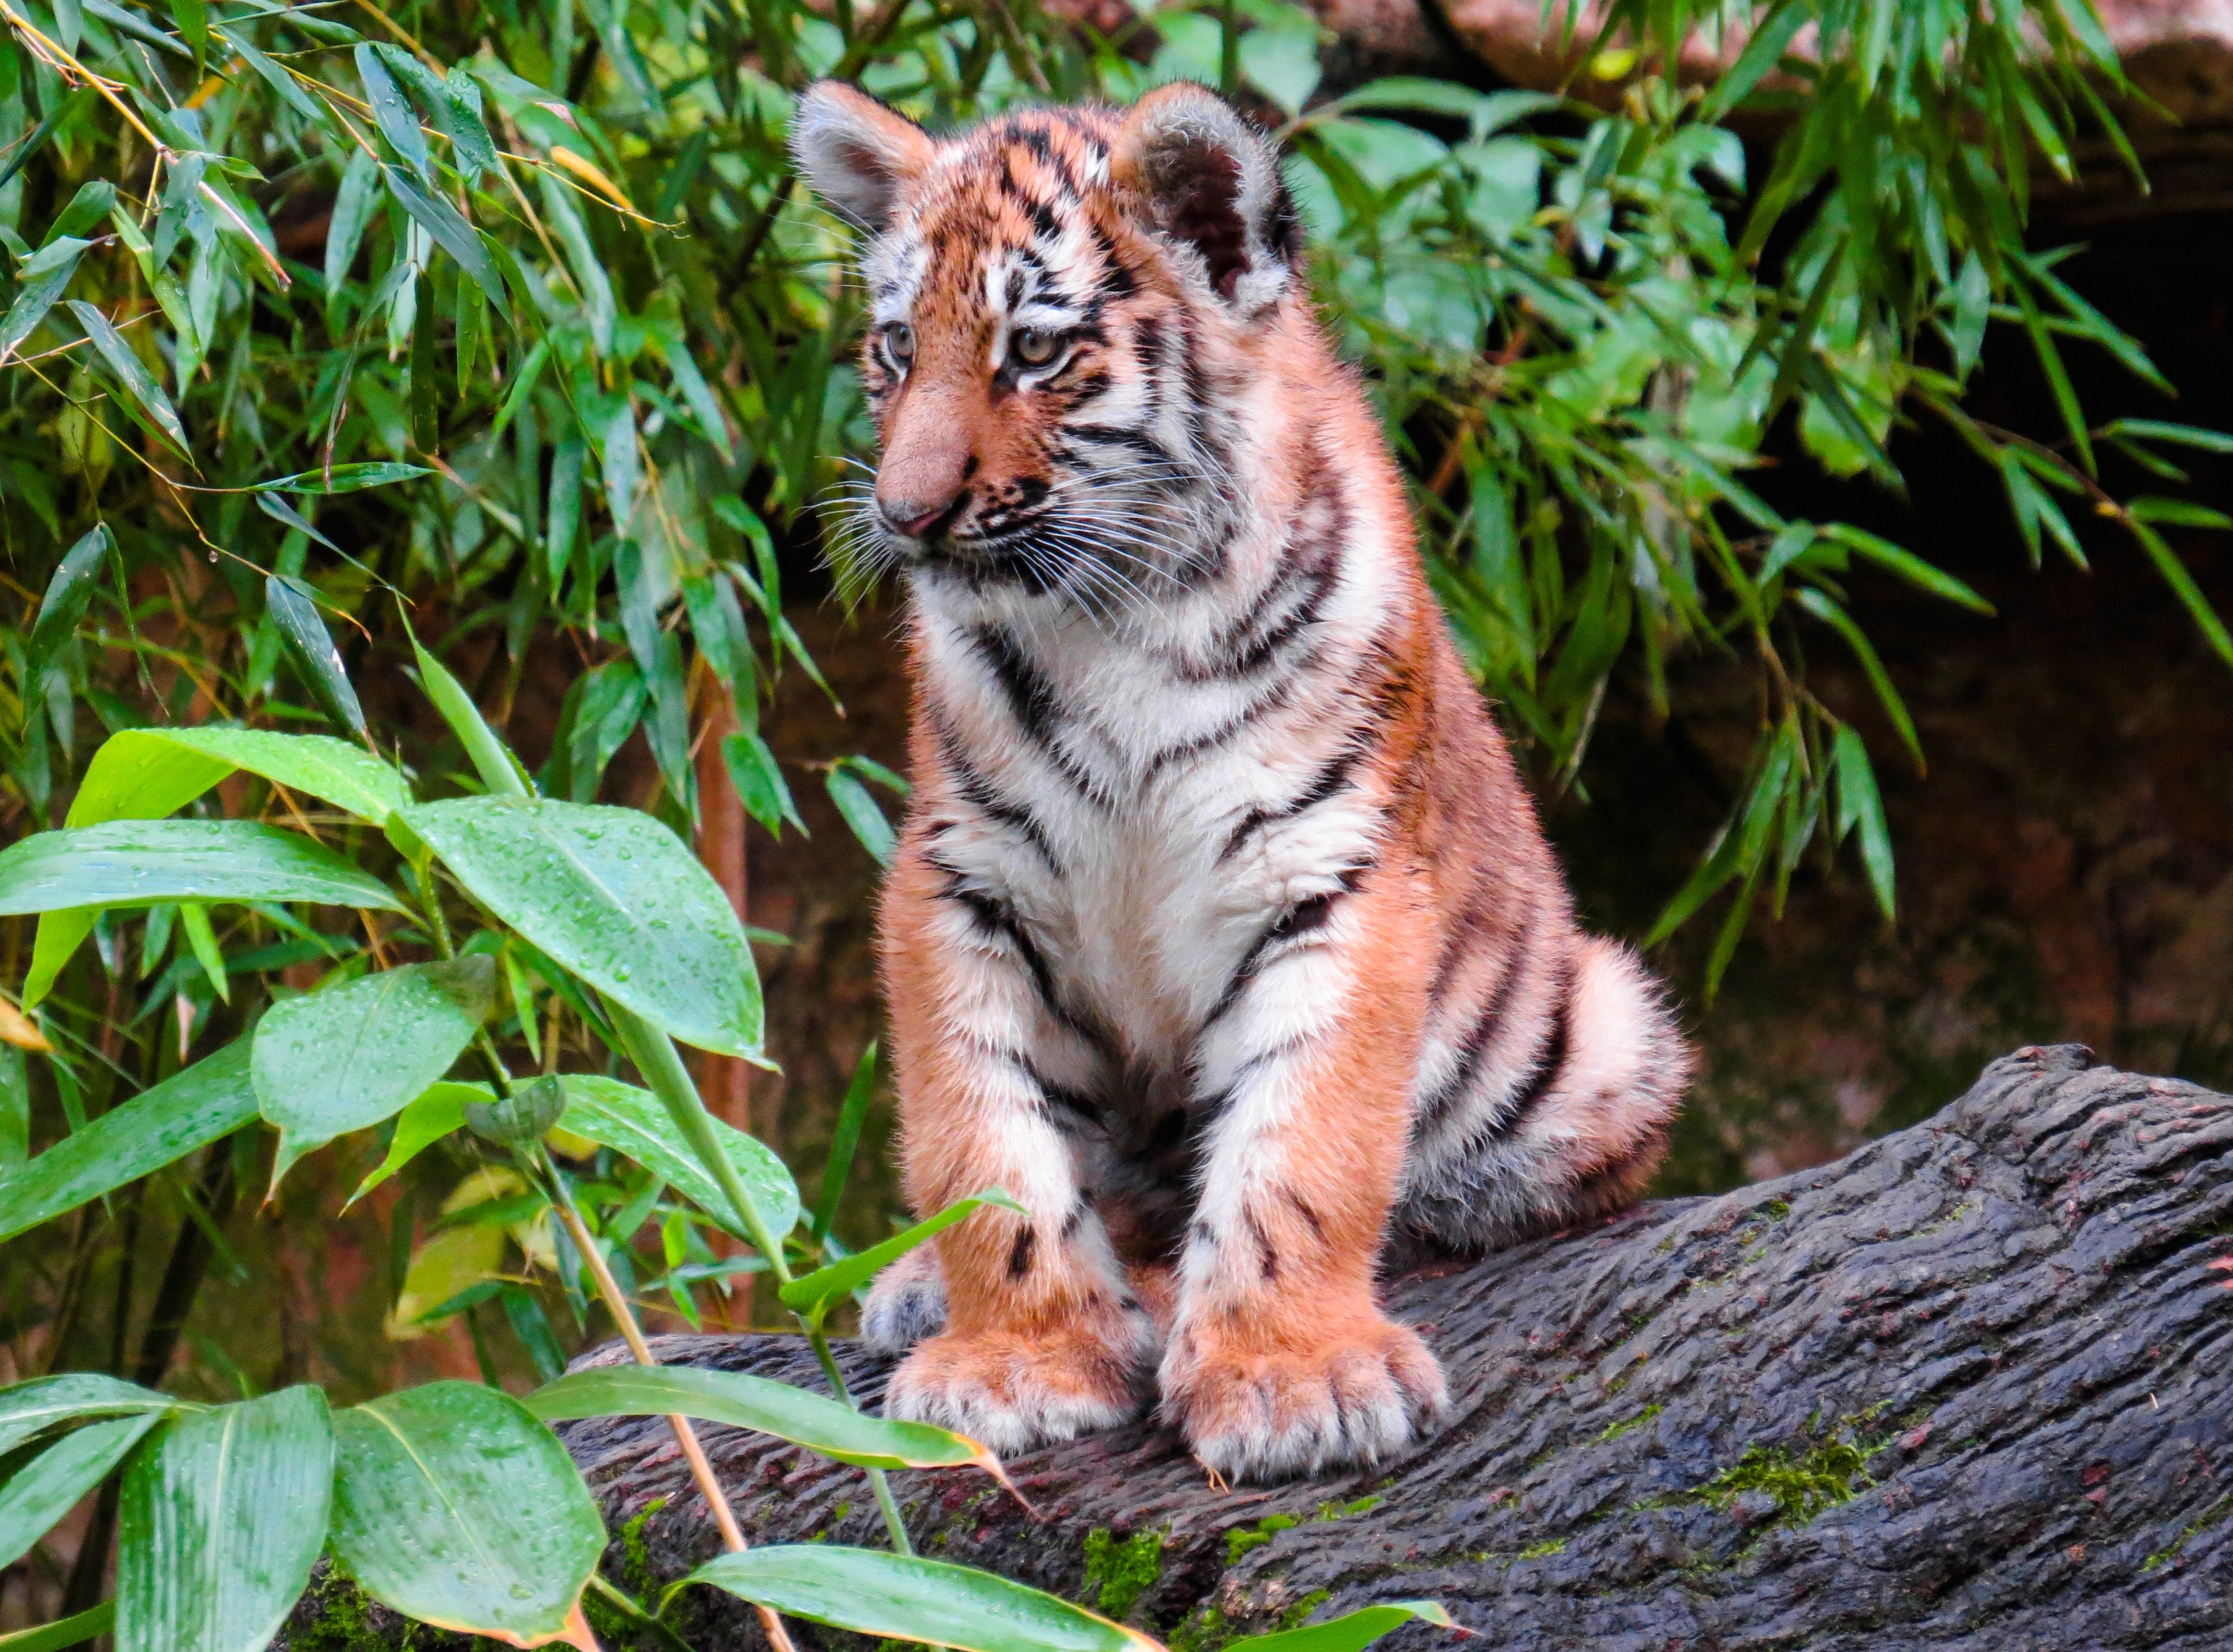tiger: (697, 47, 1789, 1508)
